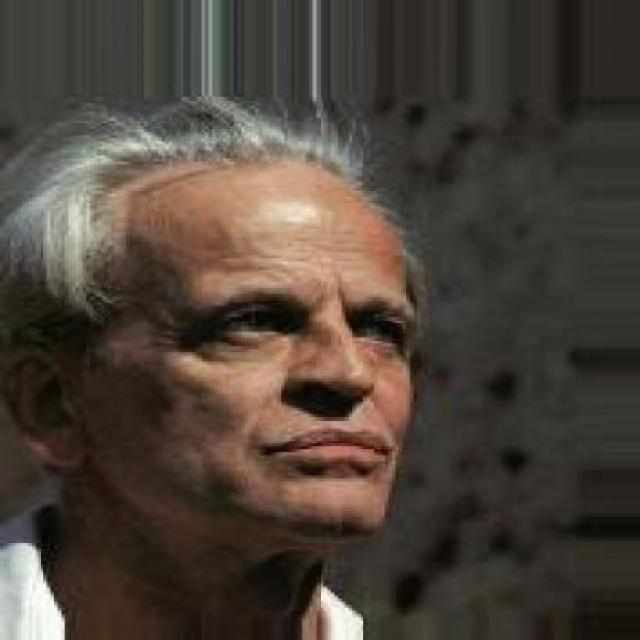closed-mouth: (272, 424, 394, 472)
